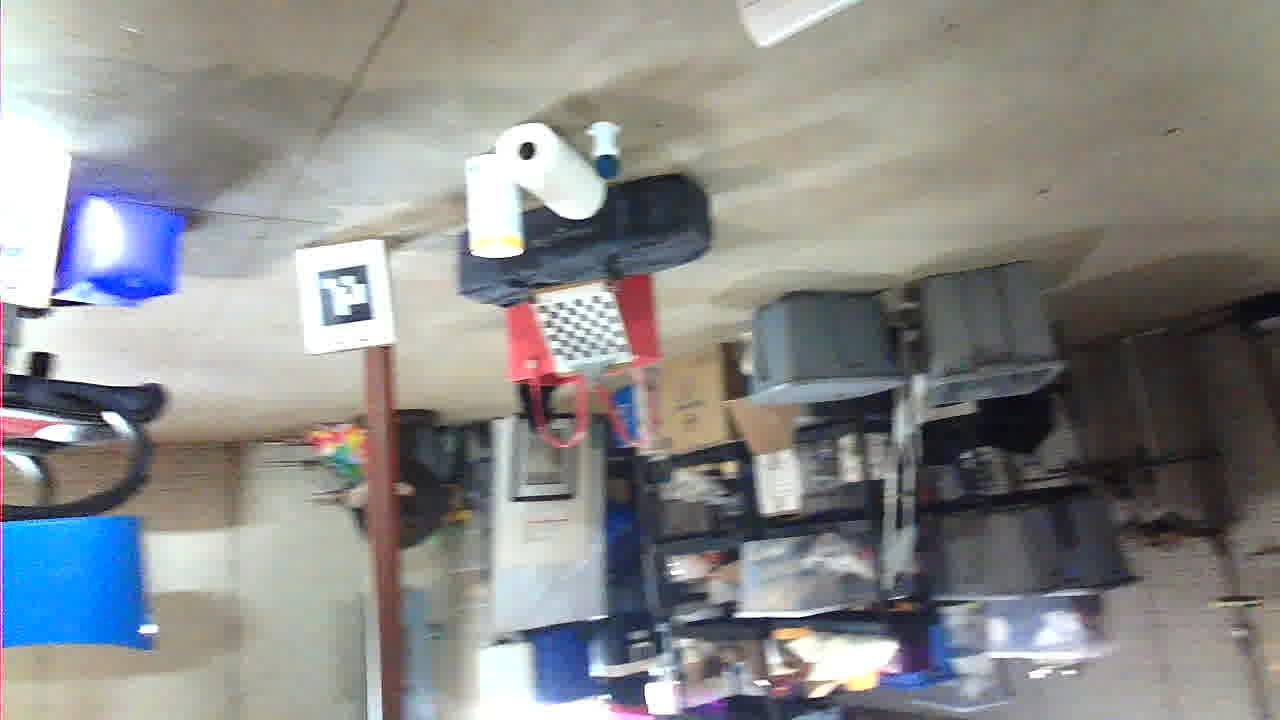coral: (417, 672, 543, 720)
